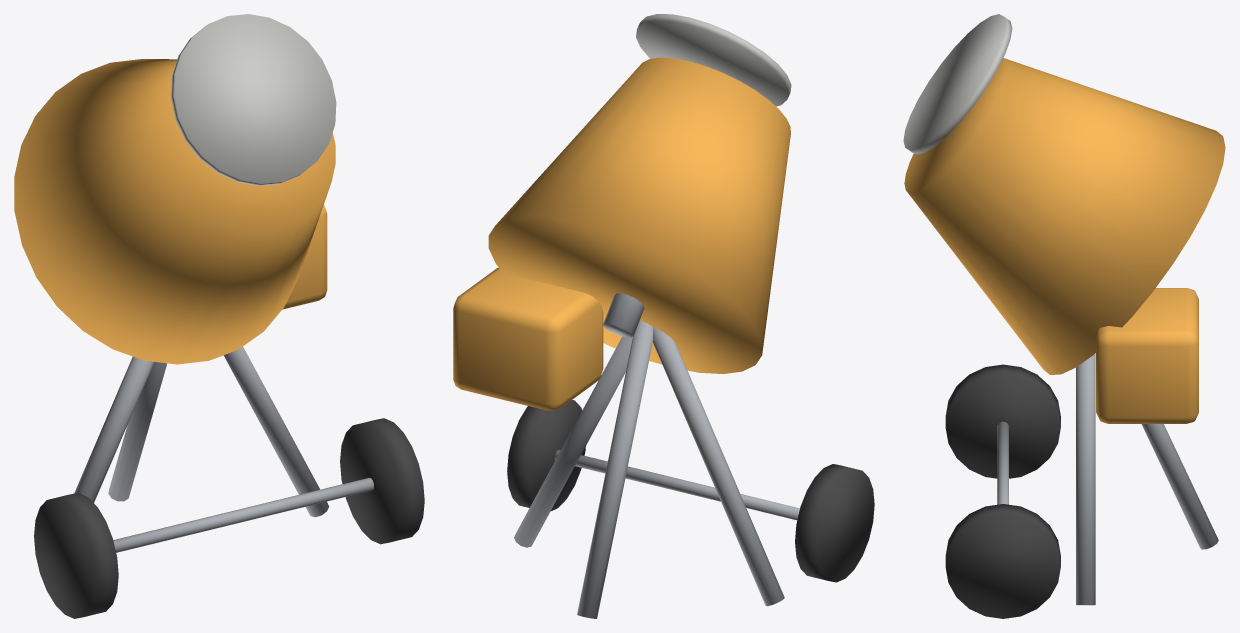
Rendered from cement_mixer.glb.
The picture shows the model from 3 angles, left to right: view 1: azimuth 30°, elevation 25°; view 2: azimuth 150°, elevation 25°; view 3: azimuth 270°, elevation 25°; orthographic projection. The views are drawn at different scales.
Visible parts, largest first — view 1: Cone, Cylinder.006, Cylinder.003, Cylinder.004, Cylinder.001, Cylinder.005, Cylinder, Cylinder.002, Cube; view 2: Cone, Cube, Cylinder.003, Cylinder.006, Cylinder.002, Cylinder, Cylinder.004, Cylinder.001, Cylinder.005, Cylinder.007; view 3: Cone, Cube, Cylinder.004, Cylinder.003, Cylinder.006, Cylinder.001, Cylinder.002, Cylinder.005.
Part boxes in pixels (x1=…): Cone: x1=14, y1=59, x2=335, y2=364; Cylinder.006: x1=171, y1=14, x2=336, y2=185; Cylinder.003: x1=34, y1=493, x2=118, y2=618; Cylinder.004: x1=340, y1=418, x2=424, y2=544; Cylinder.001: x1=223, y1=346, x2=329, y2=517; Cylinder.005: x1=113, y1=478, x2=373, y2=552; Cylinder: x1=74, y1=356, x2=154, y2=502; Cylinder.002: x1=108, y1=362, x2=167, y2=501; Cube: x1=282, y1=205, x2=327, y2=309; Cone: x1=488, y1=57, x2=790, y2=374; Cube: x1=453, y1=267, x2=603, y2=410; Cylinder.003: x1=795, y1=464, x2=874, y2=582; Cylinder.006: x1=636, y1=14, x2=791, y2=106; Cylinder.002: x1=577, y1=321, x2=653, y2=618; Cylinder: x1=653, y1=327, x2=784, y2=606; Cylinder.004: x1=507, y1=400, x2=585, y2=510; Cylinder.001: x1=514, y1=336, x2=632, y2=547; Cylinder.005: x1=554, y1=449, x2=799, y2=520; Cylinder.007: x1=603, y1=293, x2=644, y2=337; Cone: x1=904, y1=58, x2=1225, y2=374; Cube: x1=1096, y1=288, x2=1198, y2=423; Cylinder.004: x1=945, y1=504, x2=1060, y2=618; Cylinder.003: x1=945, y1=364, x2=1060, y2=478; Cylinder.006: x1=903, y1=14, x2=1012, y2=154; Cylinder.001: x1=1076, y1=353, x2=1095, y2=605; Cylinder.002: x1=1141, y1=424, x2=1218, y2=549; Cylinder.005: x1=997, y1=421, x2=1008, y2=504.
Bounding box in the file's own units: 0.86 × 1.4 × 0.7813.
